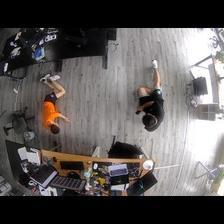fall: (130, 57, 165, 132), (39, 72, 71, 135)
